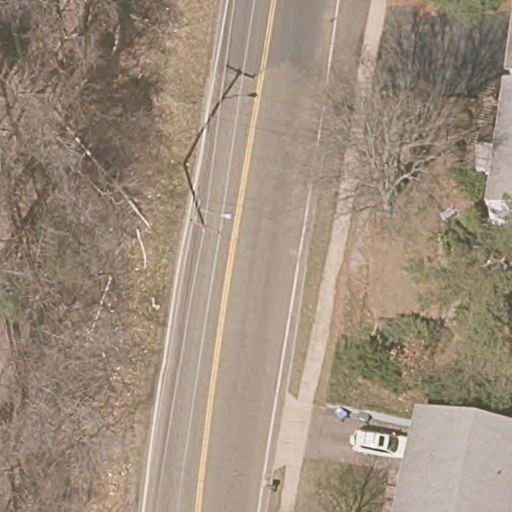DT: (183, 162, 231, 235)
